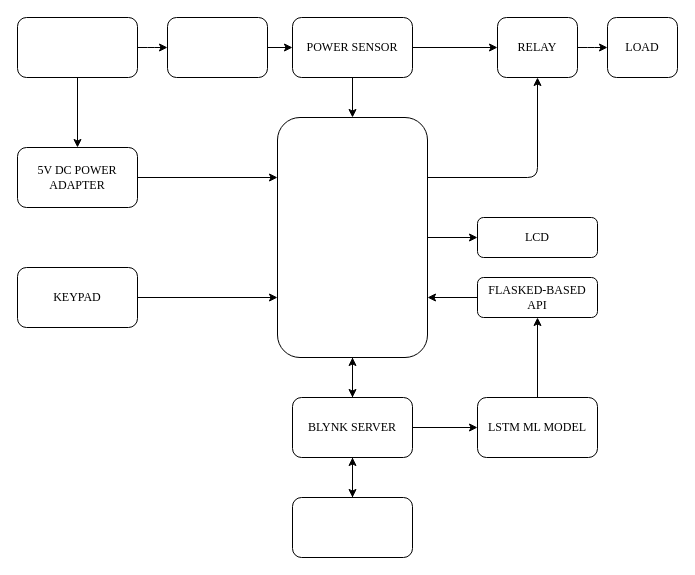
This 695x575 diagram has some shape labels left out. Here are the shapes that lost their labels. From the top down, the centre of each, then its label:
At pixel 77 47: "AC SOURCE".
At pixel 217 47: "CURRENT TRANSFORMER".
At pixel 352 237: "ESP 32 MICRO-CONTROLLER".
At pixel 352 527: "BLYNK APP/CONSOLE".
